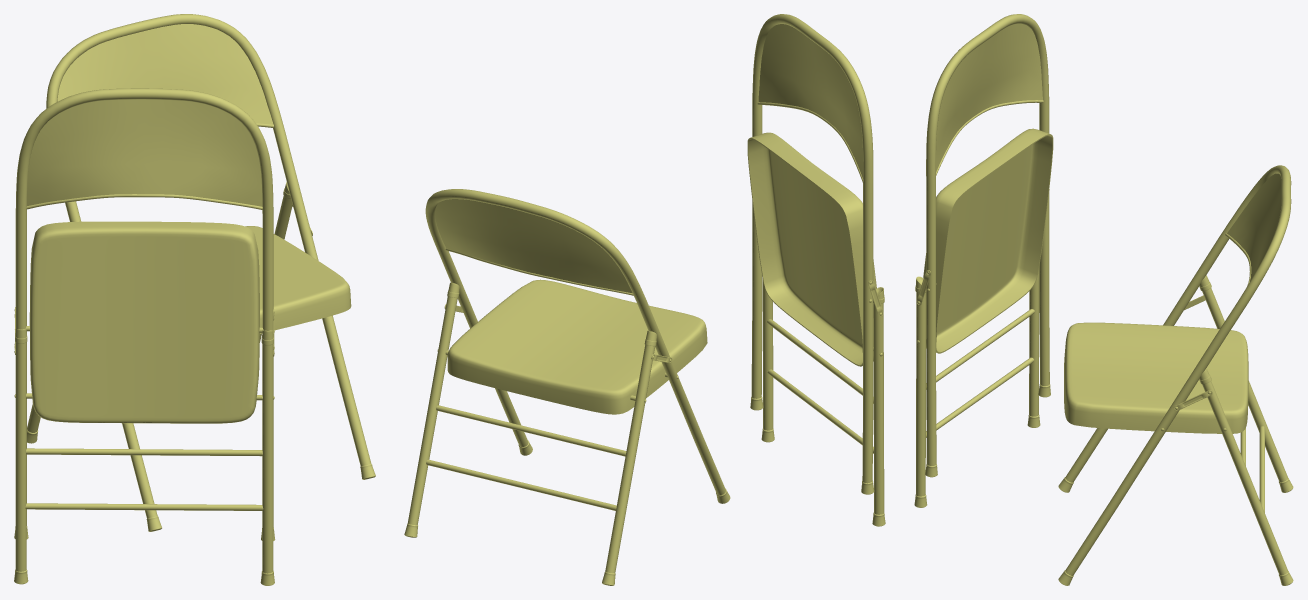
The model's file is FOLDING CHAIR.fbx.
3 renders of one model, left to right at view 1: azimuth 30°, elevation 25°; view 2: azimuth 150°, elevation 25°; view 3: azimuth 270°, elevation 25°, orthographic. The views are drawn at different scales.
Visible parts, largest first — view 1: foldingchair_closed, foldingchair_open; view 2: foldingchair_open, foldingchair_closed; view 3: foldingchair_closed, foldingchair_open.
Boxes of the visible parts, <box> form: foldingchair_closed: <box>14,88,275,585</box>; foldingchair_open: <box>27,14,375,531</box>; foldingchair_open: <box>404,189,730,585</box>; foldingchair_closed: <box>747,14,885,526</box>; foldingchair_closed: <box>914,14,1053,507</box>; foldingchair_open: <box>1058,165,1293,585</box>.
Size of what is drawn, in the model's own units: 3.54 by 4.39 by 3.45.
